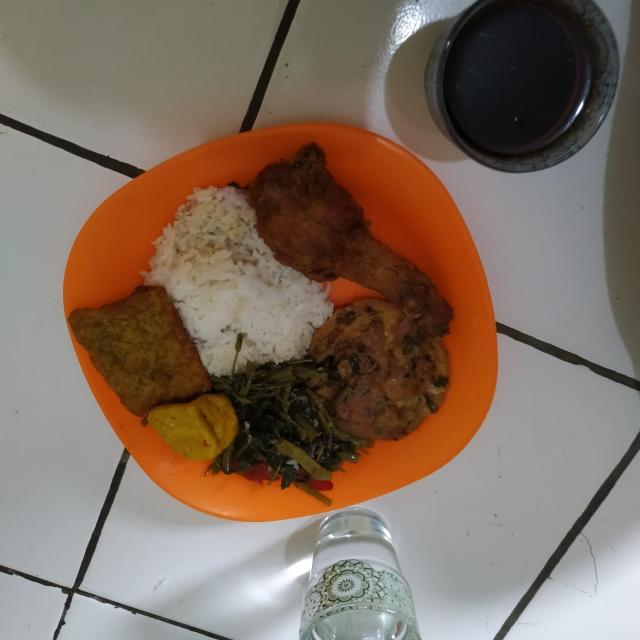ayam_goreng: (242, 146, 468, 336)
nasi_putih: (153, 188, 339, 397)
telur_ayam_dadar: (316, 298, 442, 468)
